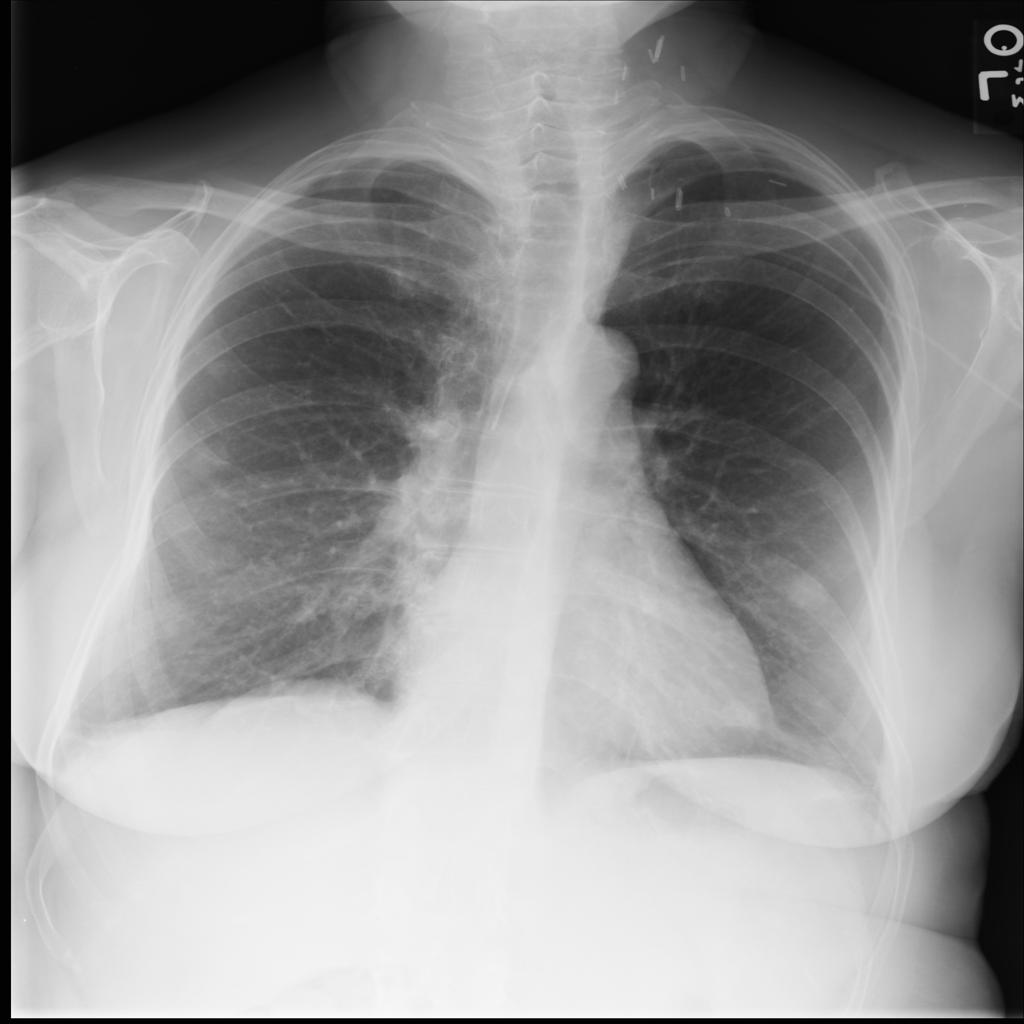nodule: (767, 557, 848, 626), (699, 681, 782, 746), (191, 343, 246, 389)
